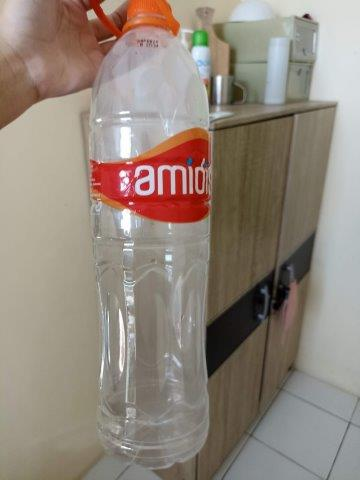botolplastik: (87, 1, 210, 469)
